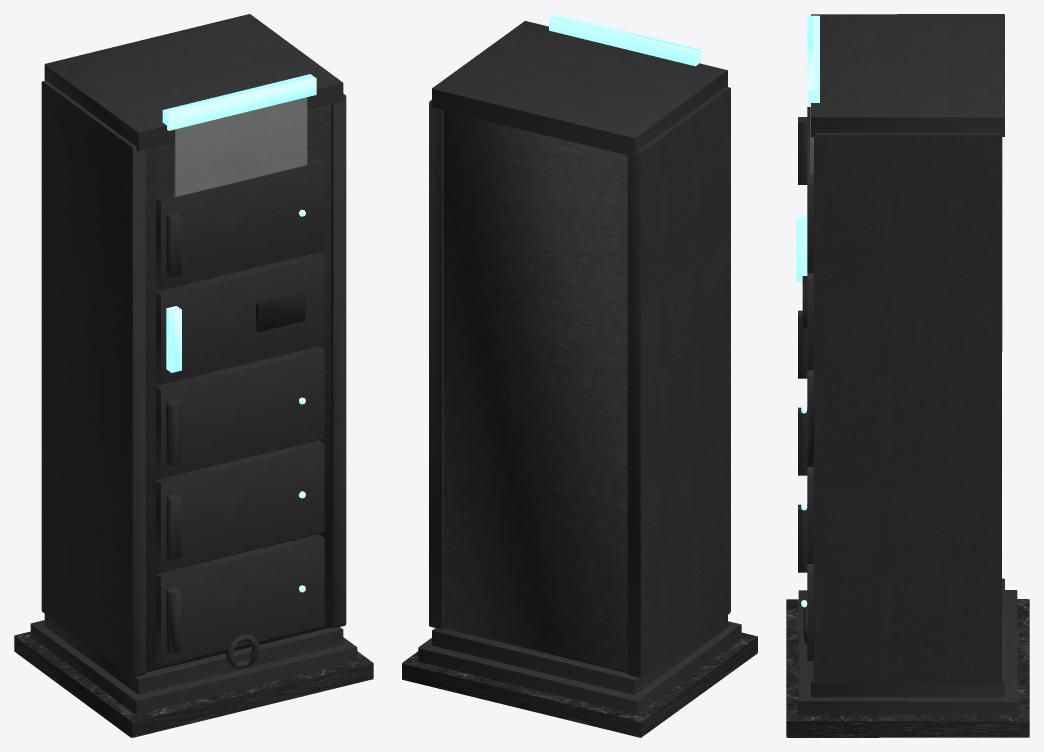
File: hp_room_l07_p07.glb
3 views of the same model, side by side, from view 1: azimuth 30°, elevation 25°; view 2: azimuth 150°, elevation 25°; view 3: azimuth 270°, elevation 25° (orthographic). The views are drawn at different scales.
Visible parts, largest first — view 1: room_l07_p07; view 2: room_l07_p07; view 3: room_l07_p07.
Part boxes in pixels (<box>): room_l07_p07: <box>14,14,373,737</box>; room_l07_p07: <box>402,14,757,737</box>; room_l07_p07: <box>786,14,1029,737</box>.
Bounding box in the file's own units: 0.9201 × 2.19 × 0.7744.
8 materials, 5 textured.
